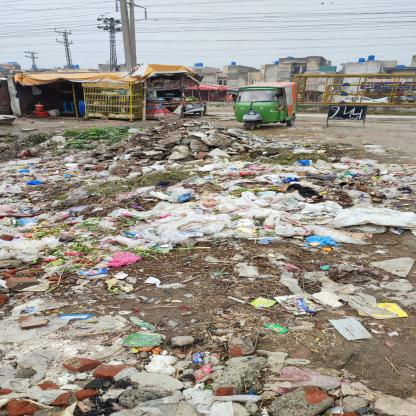Garbage: (1, 139, 416, 416)
